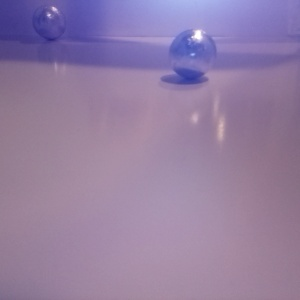alive_ball: (1, 40, 26, 137)
dead_ball: (192, 27, 297, 129)
